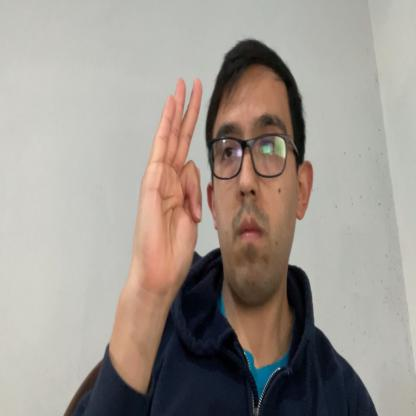F: (136, 77, 202, 293)
